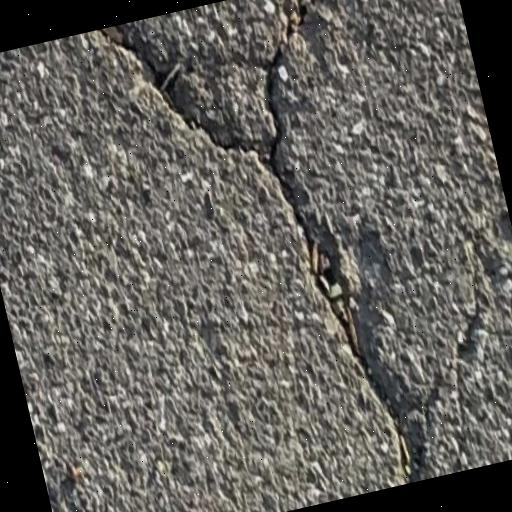spalling: (95, 0, 427, 487)
